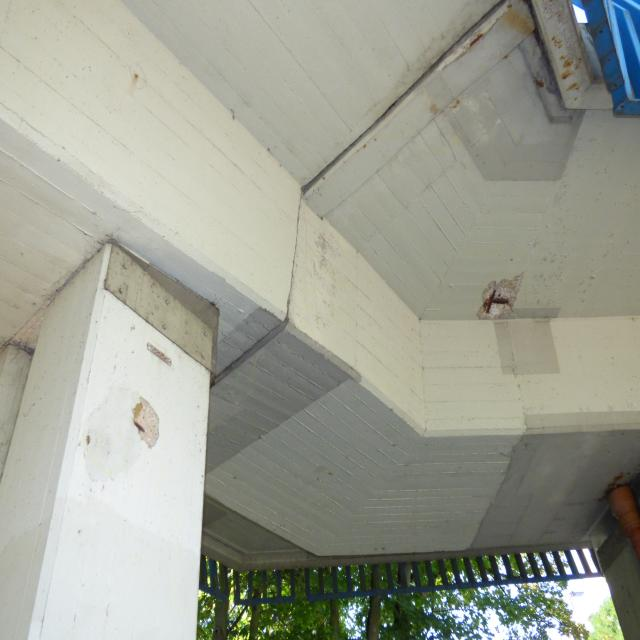corrosion: (421, 4, 624, 124), (593, 465, 635, 505), (482, 288, 511, 316), (130, 418, 155, 438)
